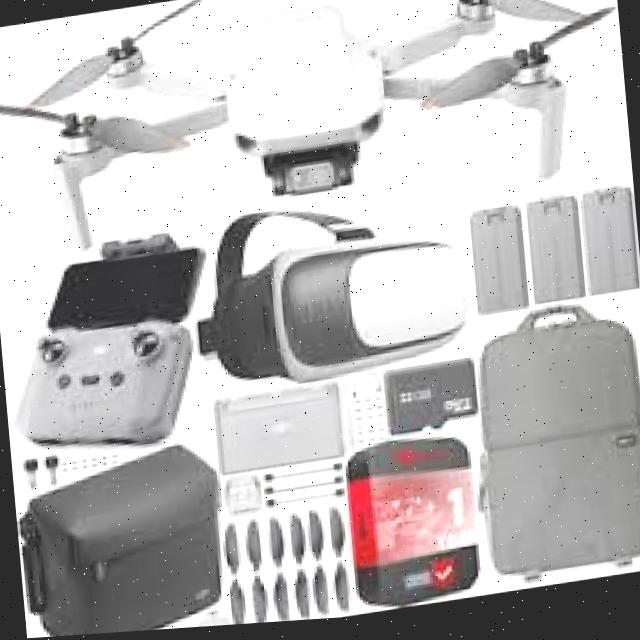drone: (0, 0, 632, 270)
